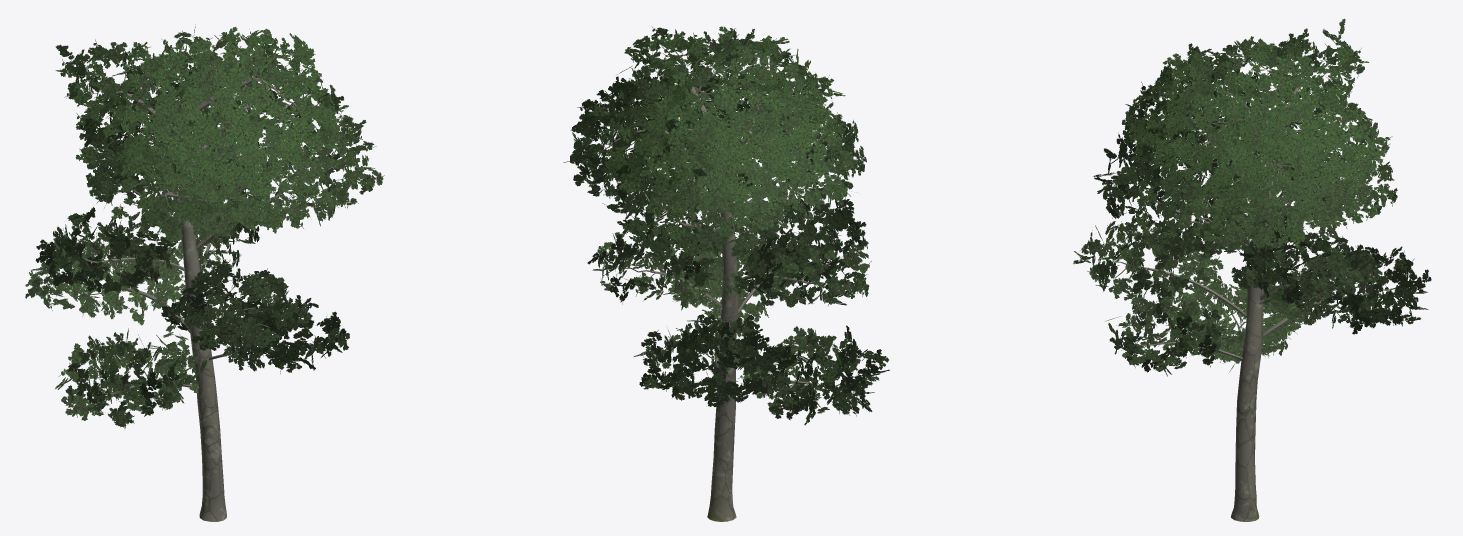
Rendered from beech.glb.
The picture shows the model from 3 angles, left to right: view 1: azimuth 30°, elevation 25°; view 2: azimuth 150°, elevation 25°; view 3: azimuth 270°, elevation 25°; orthographic projection. The views are drawn at different scales.
Visible parts, largest first — view 1: beech_cards_LOD0, beech_LOD0; view 2: beech_cards_LOD0, beech_LOD0; view 3: beech_cards_LOD0, beech_LOD0.
Part boxes in pixels (x1,y1,x2,y2): beech_cards_LOD0: [25, 24, 384, 428]; beech_LOD0: [68, 53, 347, 521]; beech_cards_LOD0: [563, 26, 889, 425]; beech_LOD0: [597, 51, 845, 521]; beech_cards_LOD0: [1073, 18, 1431, 376]; beech_LOD0: [1113, 60, 1395, 521].
Size of what is drawn, in the model's own units: 18.62 by 22.4 by 17.46.
Materials: 2 (2 with a texture image).
